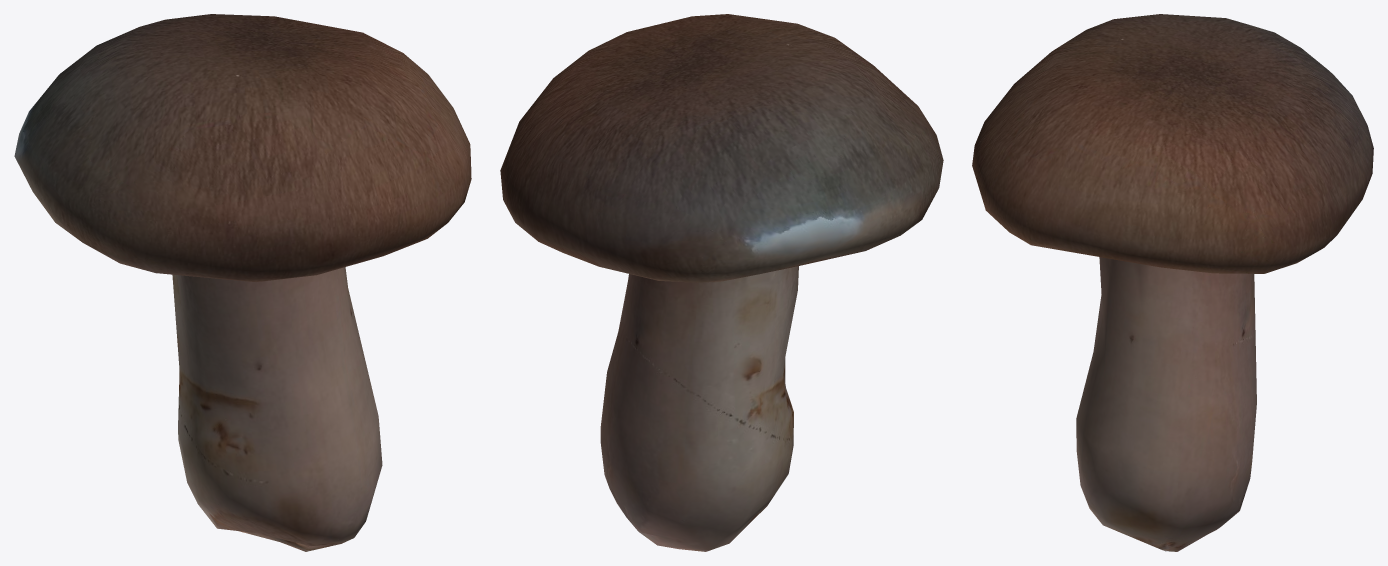
Rendered from cepe-2.glb.
3 renders of one model, left to right at view 1: azimuth 30°, elevation 25°; view 2: azimuth 150°, elevation 25°; view 3: azimuth 270°, elevation 25°, orthographic. The views are drawn at different scales.
Parts seen in each view (by area): view 1: mushroom_15; view 2: mushroom_15; view 3: mushroom_15.
Boxes of the visible parts, x1=… form: mushroom_15: x1=14, y1=14, x2=471, y2=551; mushroom_15: x1=500, y1=14, x2=943, y2=551; mushroom_15: x1=972, y1=14, x2=1373, y2=551.
Bounding box in the file's own units: 4.92 × 6.28 × 4.83.
Materials: 1 (1 with a texture image).
